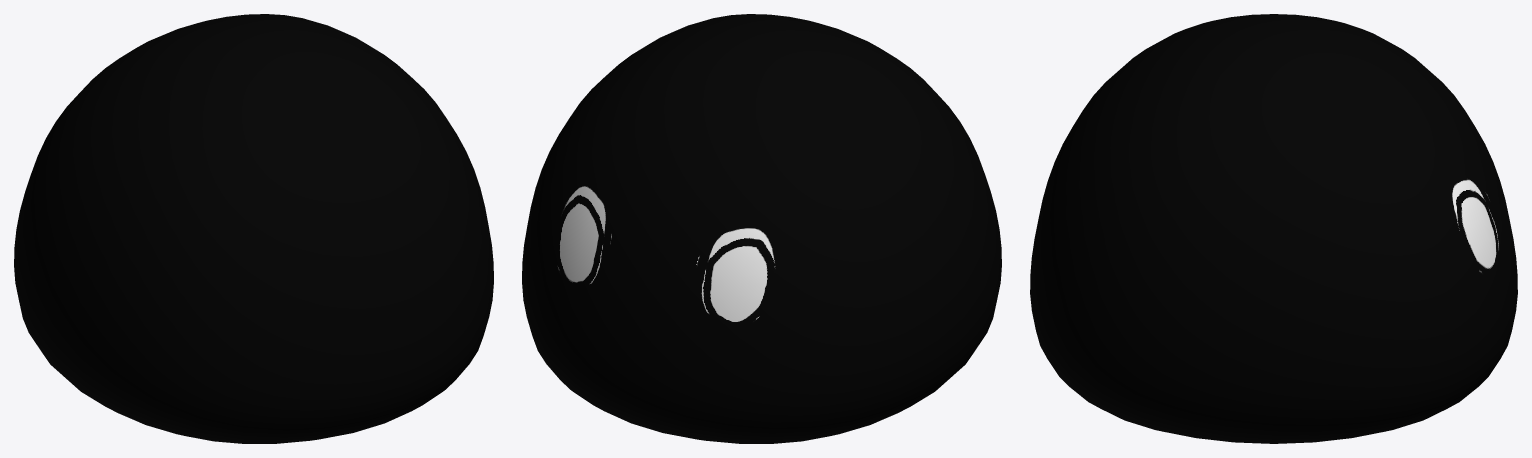
Rendered from Slime.fbx.
The picture shows the model from 3 angles, left to right: view 1: azimuth 30°, elevation 25°; view 2: azimuth 150°, elevation 25°; view 3: azimuth 270°, elevation 25°; orthographic projection. The views are drawn at different scales.
Visible parts, largest first — view 1: Cube; view 2: Cube; view 3: Cube.
Boxes of the visible parts, x1,y1,x2,y2 form: Cube: (14,14,493,443); Cube: (522,14,1001,443); Cube: (1030,14,1517,443).
Size of the model in its own units: 0.5628 by 0.4699 by 0.5745.
Materials: 1 (1 with a texture image).
